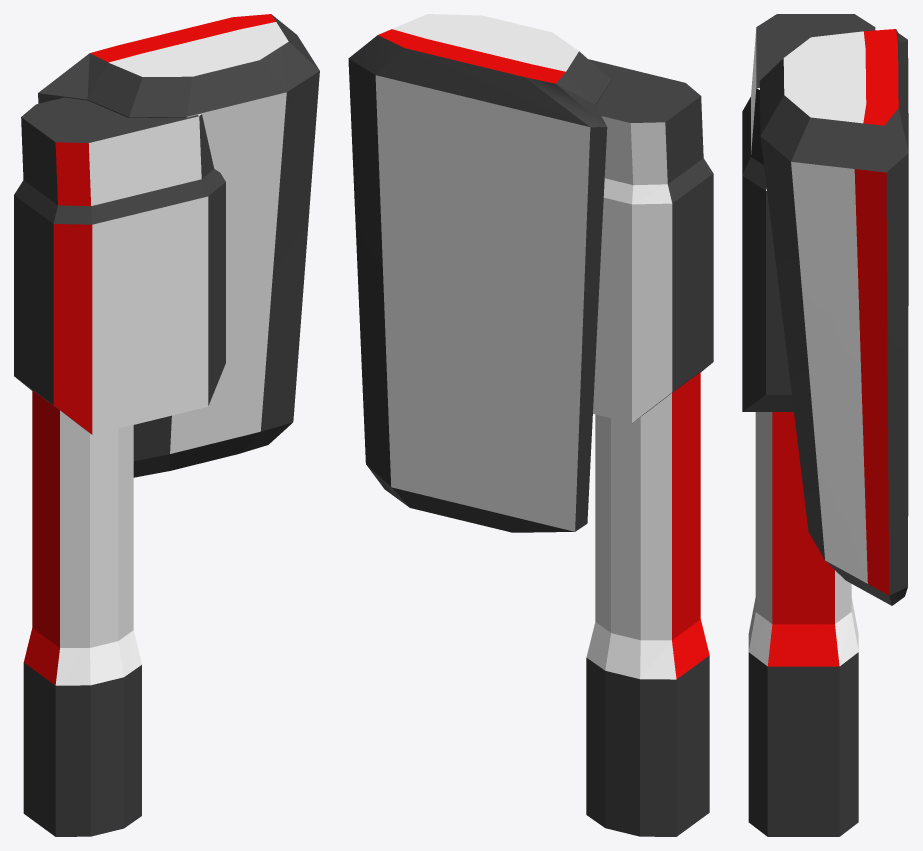
Rendered from tank.obj.
The picture shows the model from 3 angles, left to right: view 1: azimuth 30°, elevation 25°; view 2: azimuth 150°, elevation 25°; view 3: azimuth 270°, elevation 25°; orthographic projection. The views are drawn at different scales.
Parts seen in each view (by area): view 1: Box019, Box017, Box020; view 2: Box017, Box020, Box019; view 3: Box017, Box020, Box019.
Boxes of the visible parts, box(x1,y1,x2,y2) form: Box019: box(14, 97, 225, 434); Box017: box(38, 14, 319, 477); Box020: box(23, 390, 141, 836); Box017: box(348, 14, 611, 532); Box020: box(586, 372, 709, 836); Box019: box(588, 59, 713, 423); Box017: box(759, 29, 908, 605); Box020: box(748, 412, 858, 836); Box019: box(742, 14, 875, 411).
Bounding box in the file's own units: 0.8978 × 2.08 × 0.3868.
